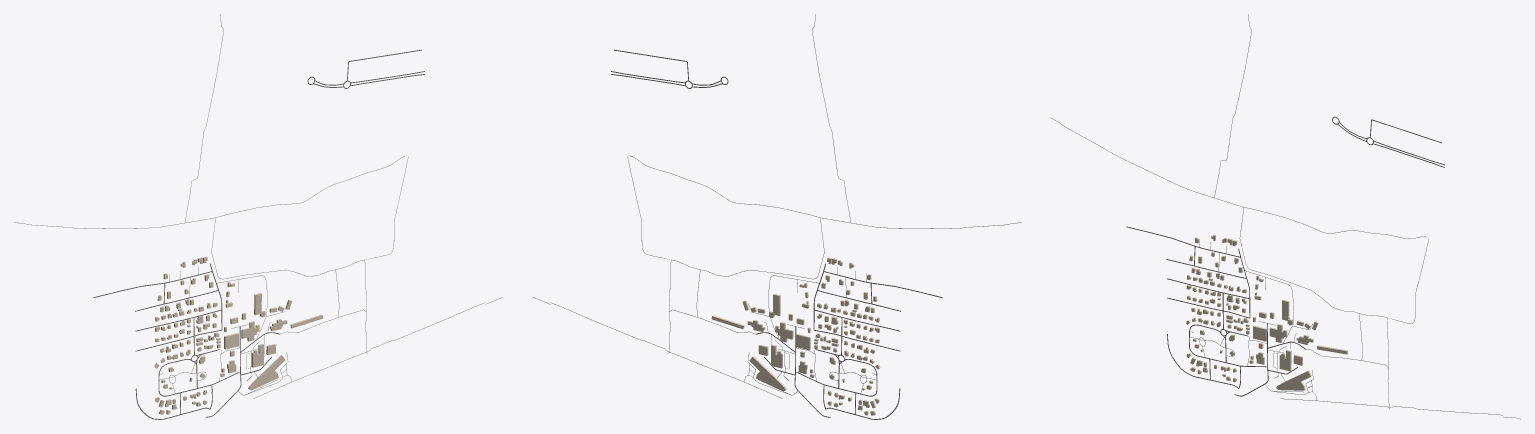
The model's file is historic-palestine-07_28_3490_3226.glb.
3 views of the same model, side by side, from view 1: azimuth 30°, elevation 25°; view 2: azimuth 150°, elevation 25°; view 3: azimuth 330°, elevation 25° (orthographic). The views are drawn at different scales.
Bounding box in the file's own units: 1862 × 1455 × 8.7.
